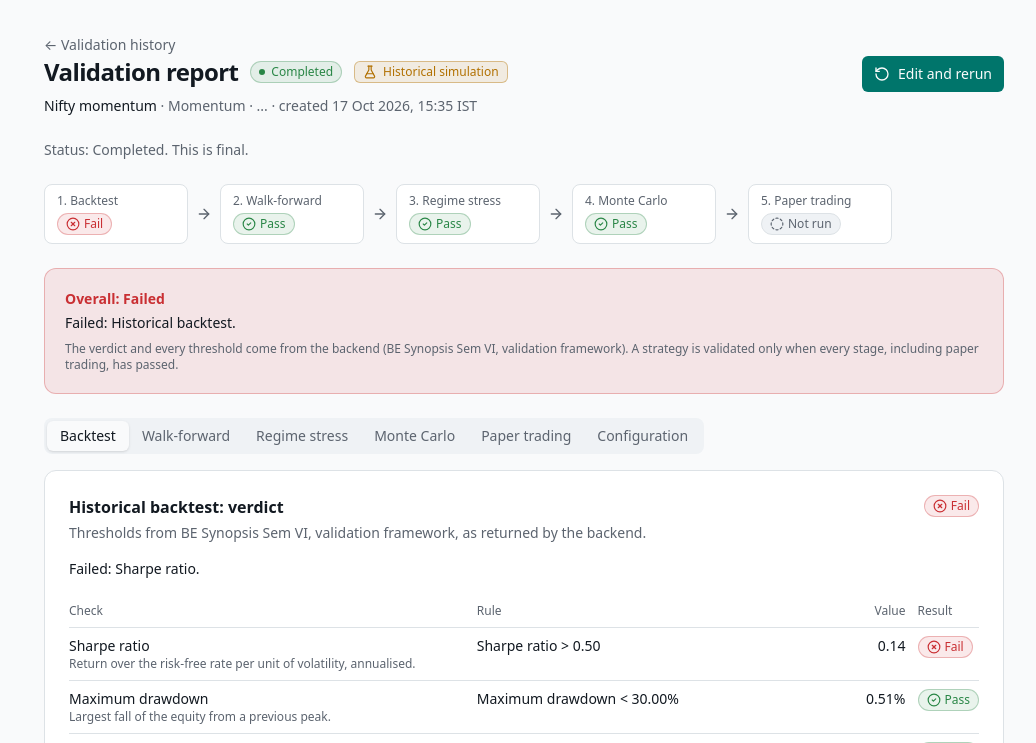
Test: ValidationReportPage › Monte Carlo: seed, simulations, percentiles, histograms and the test
Step 1. Press the mouse on the tab "Monte Carlo" → x=415, y=436, box x1=361 y1=421 x2=468 y2=451
(page scrolled)
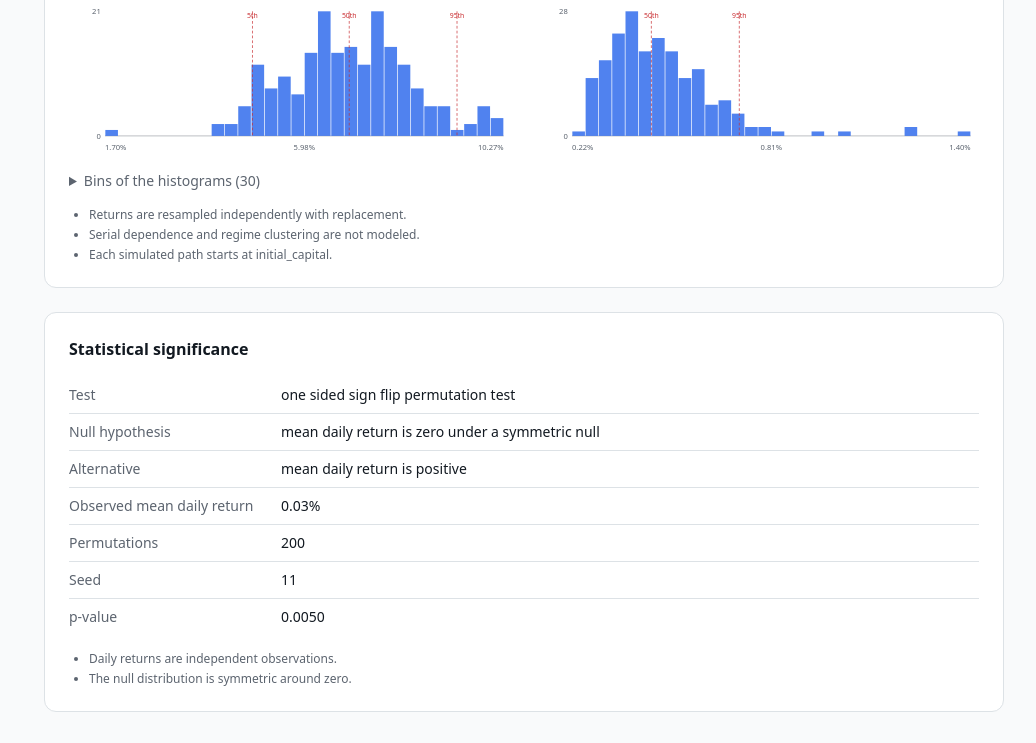
Check: the element "Statistical significance" shows "one sided sign flip permutation test", box x1=281 y1=385 x2=515 y2=404
